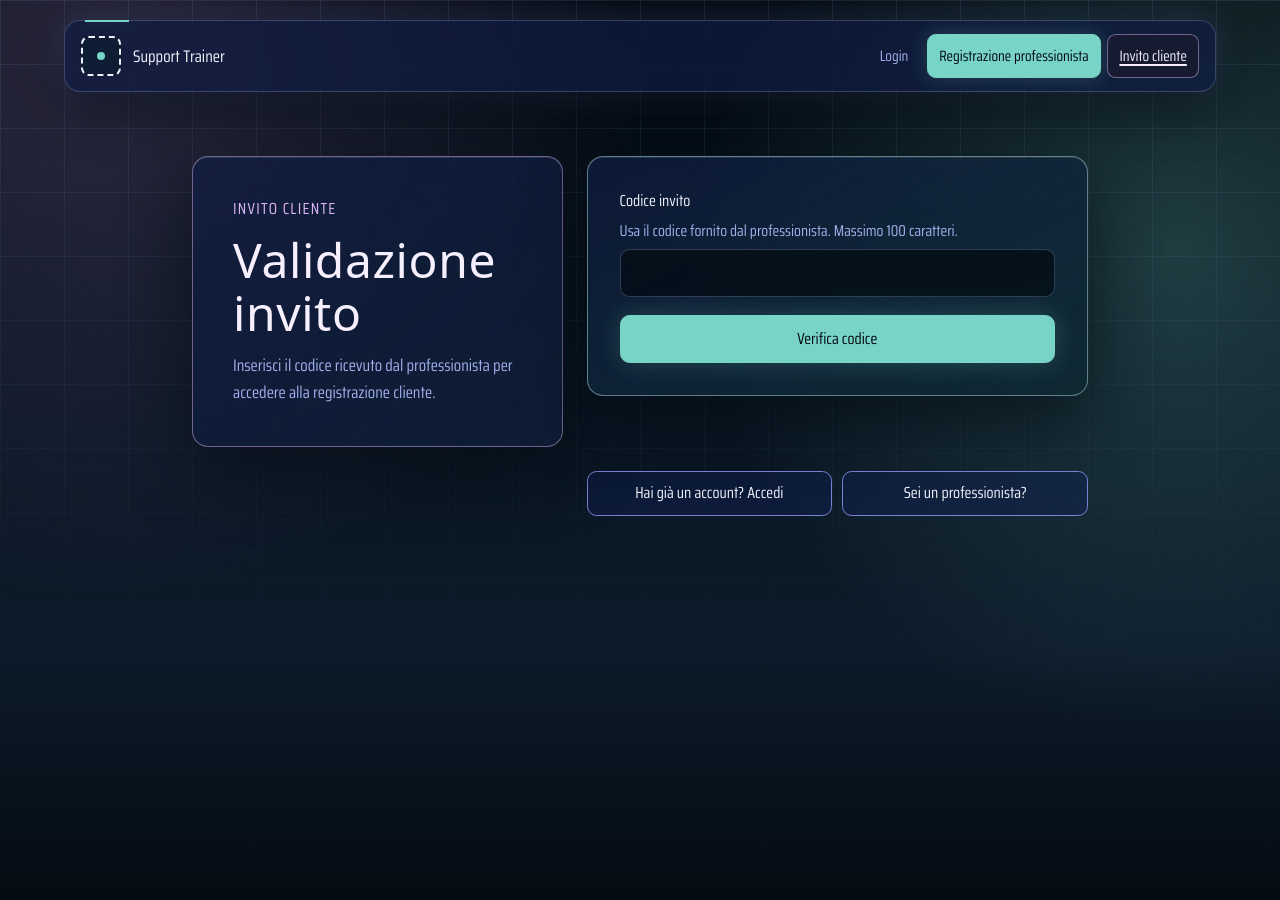
Test: AppRoutes CLIENT onboarding foundation gate › route production validate → register mostra il form CLIENT reale con provider condiviso
Step 1. Type "INV-ROUTER0001" into the field labelled "Codice invito" → (837, 273), box [620,249,1055,297]
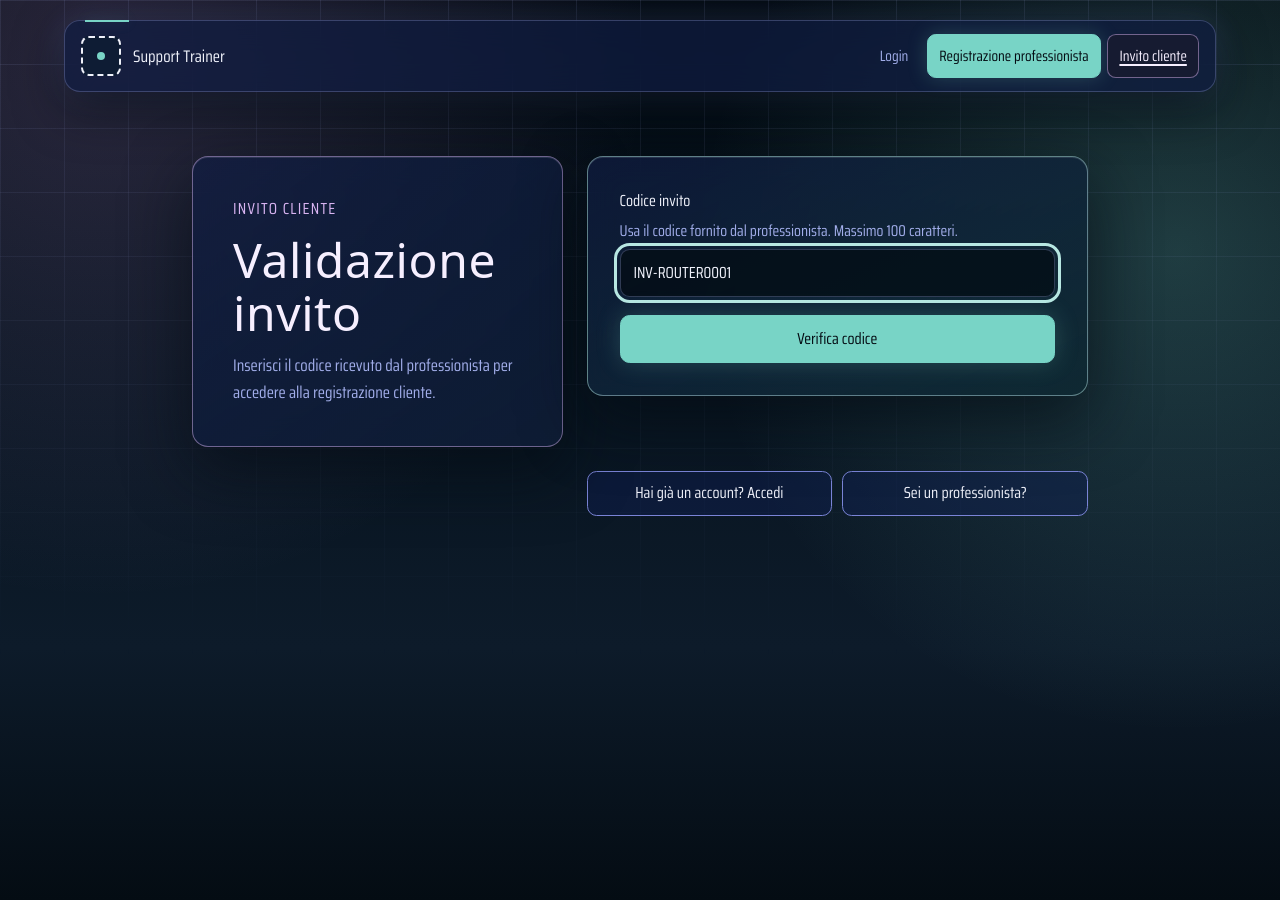
Step 2. Click the button "Verifica codice" → (837, 339), box [620,315,1055,363]
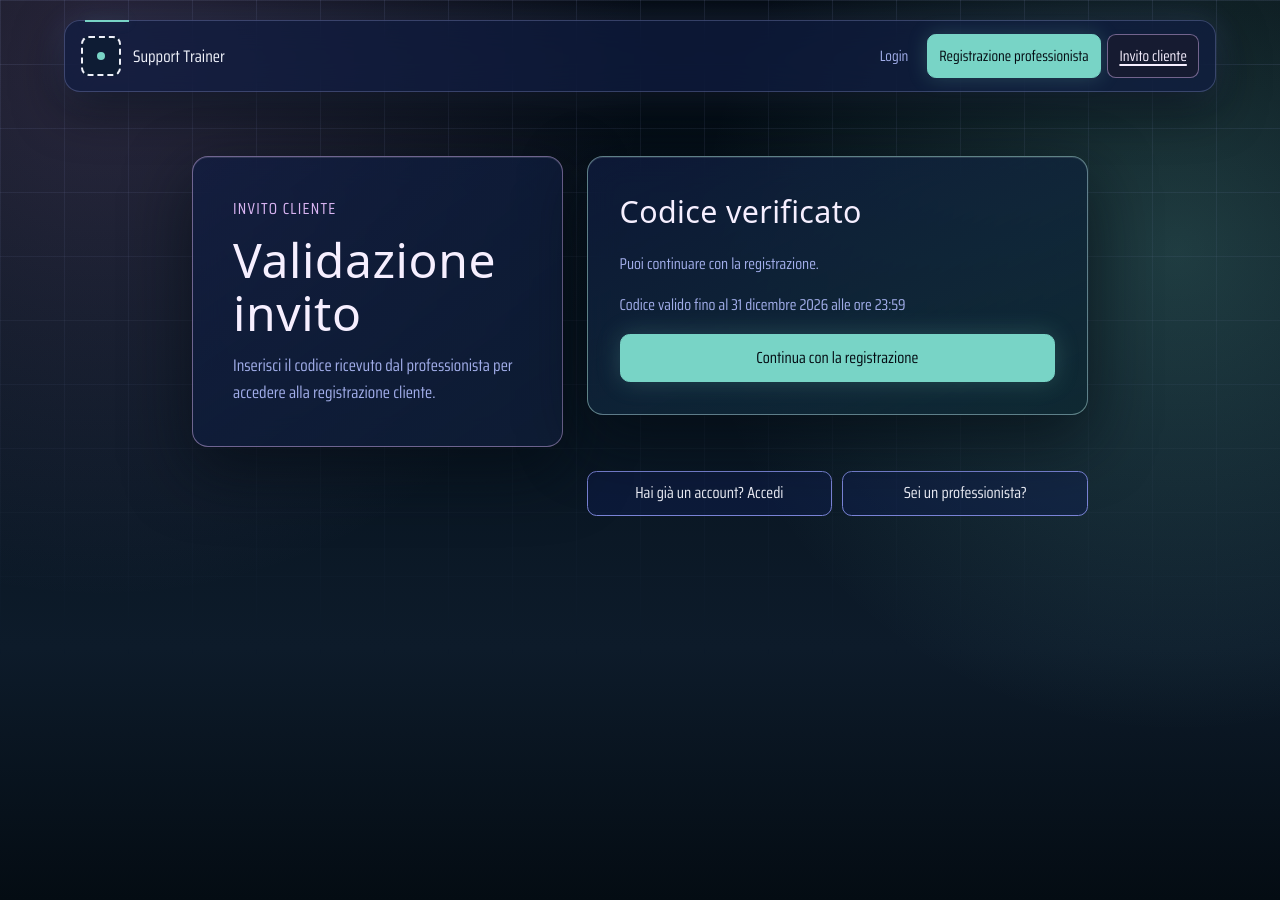
Step 3. Click the button "Continua con la registrazione" → (837, 358), box [620,334,1055,382]
(page scrolled)
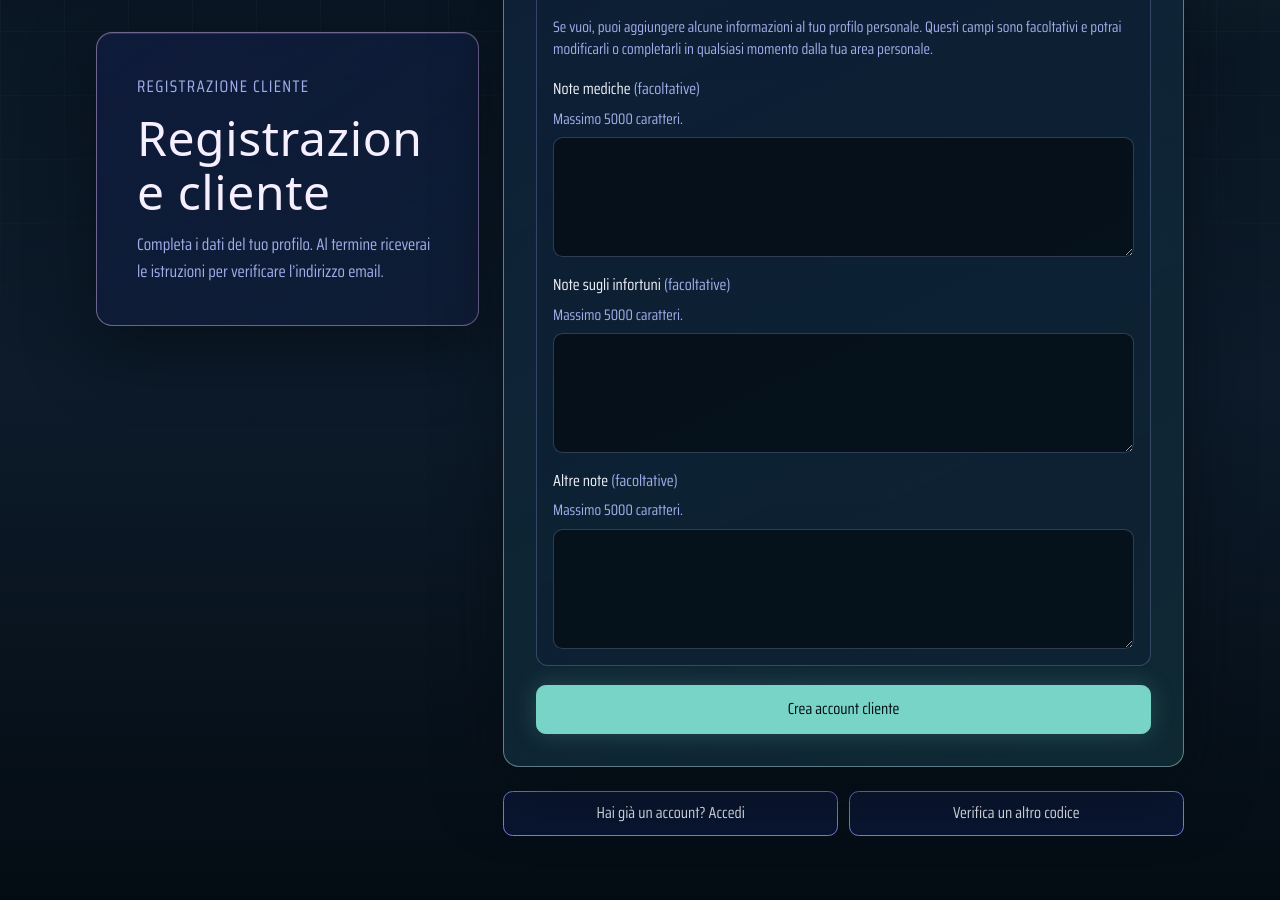
Check: the heading "Registrazione cliente" is shown, box [137,112,438,219]
Check: the button "Crea account cliente" is shown, box [536,685,1151,734]
